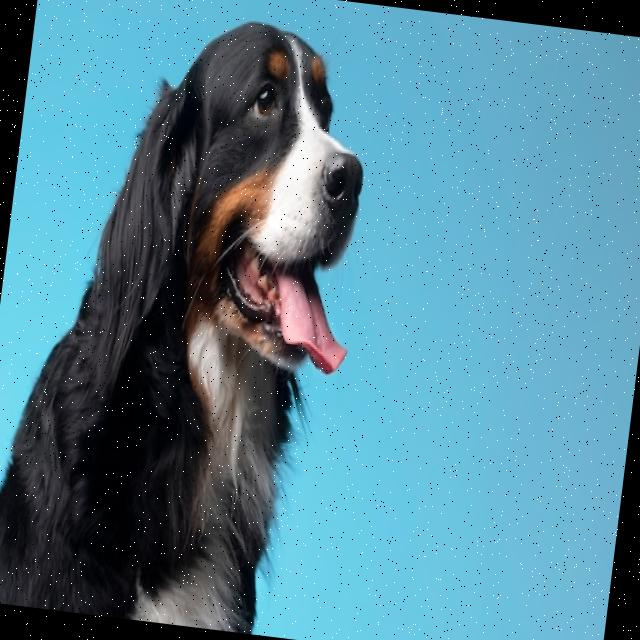Dog: (0, 0, 384, 640)
